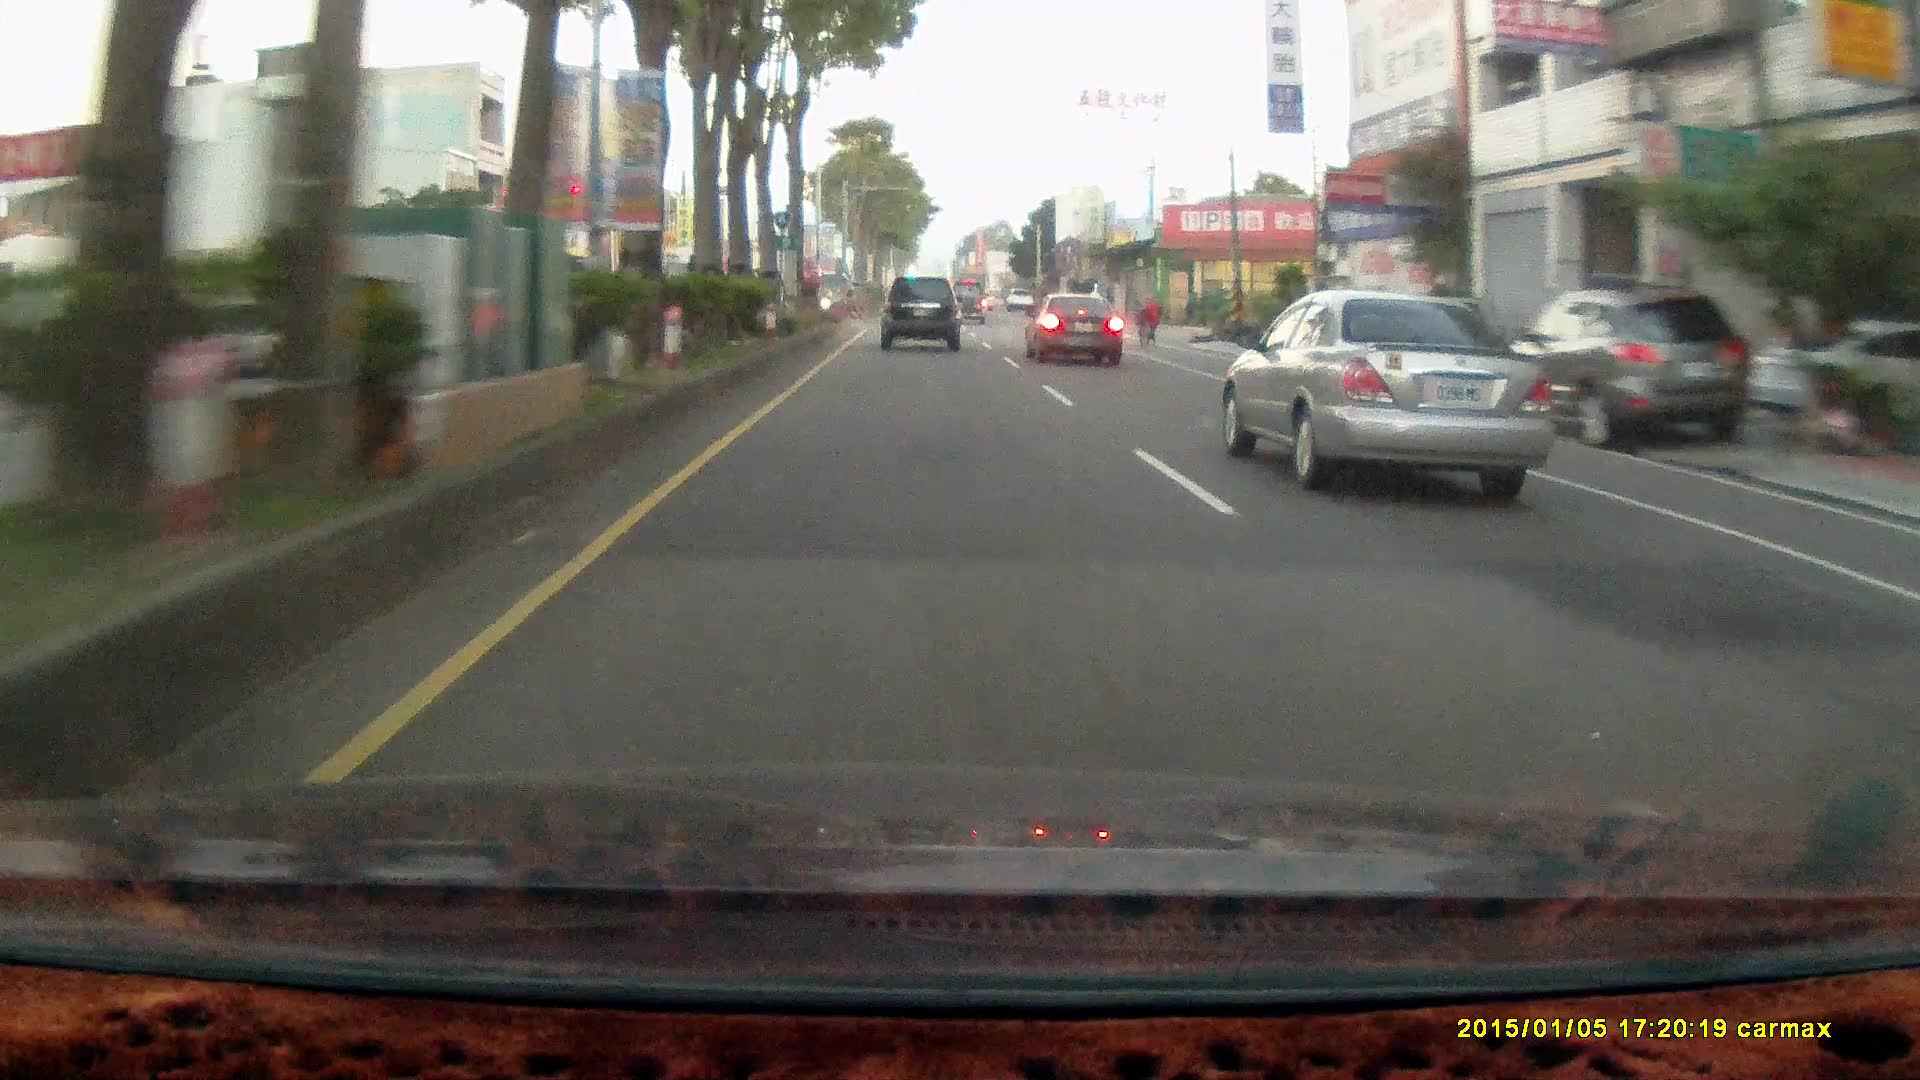pedestrian: (1142, 294, 1162, 344), (1143, 296, 1163, 345)
vehicle: (1221, 293, 1549, 482), (1488, 285, 1753, 447), (1491, 285, 1756, 447), (1740, 316, 1920, 438), (1023, 295, 1127, 371), (1023, 289, 1122, 365), (879, 278, 967, 353), (879, 277, 960, 352), (949, 283, 989, 329)
